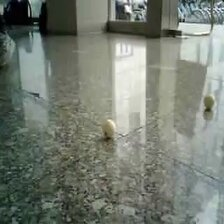w: (101, 119, 116, 136), (203, 95, 216, 109)
